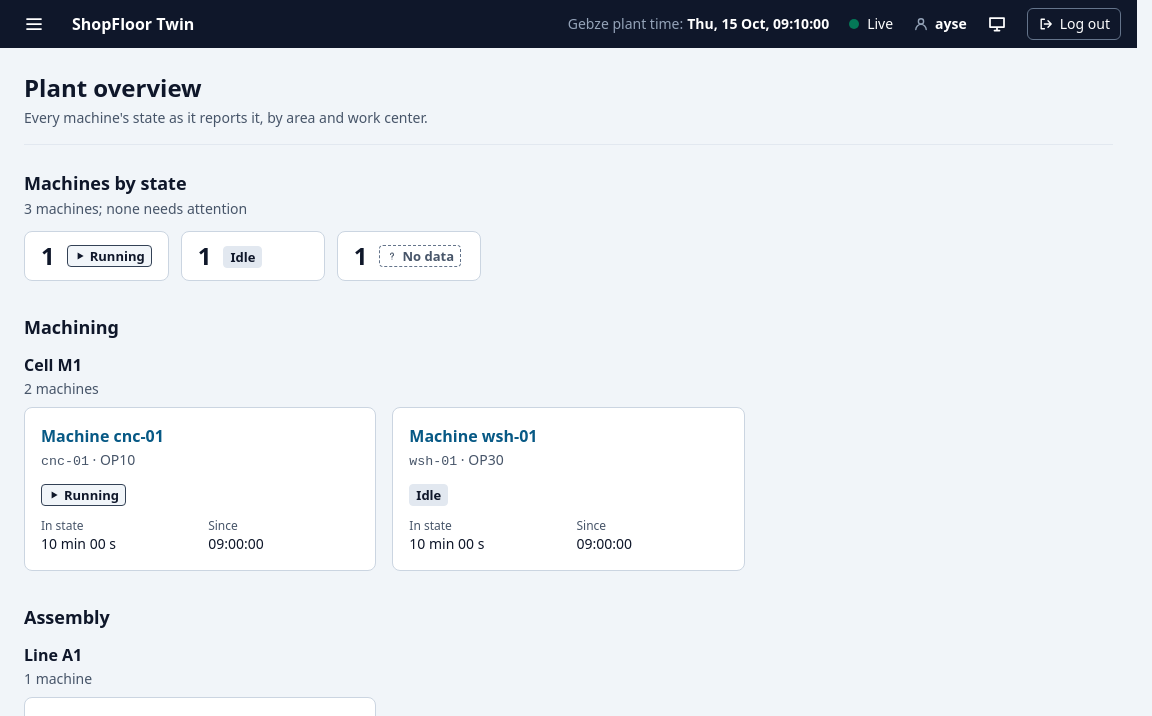
Test: a logout racing a read of the session, in one page › ignores a read the MES answered before the logout ended the session
expect the text "ayse" is shown: met, box [935, 14, 967, 34]
Click the button with test id "logout" at (1074, 24), box [1027, 8, 1121, 40]
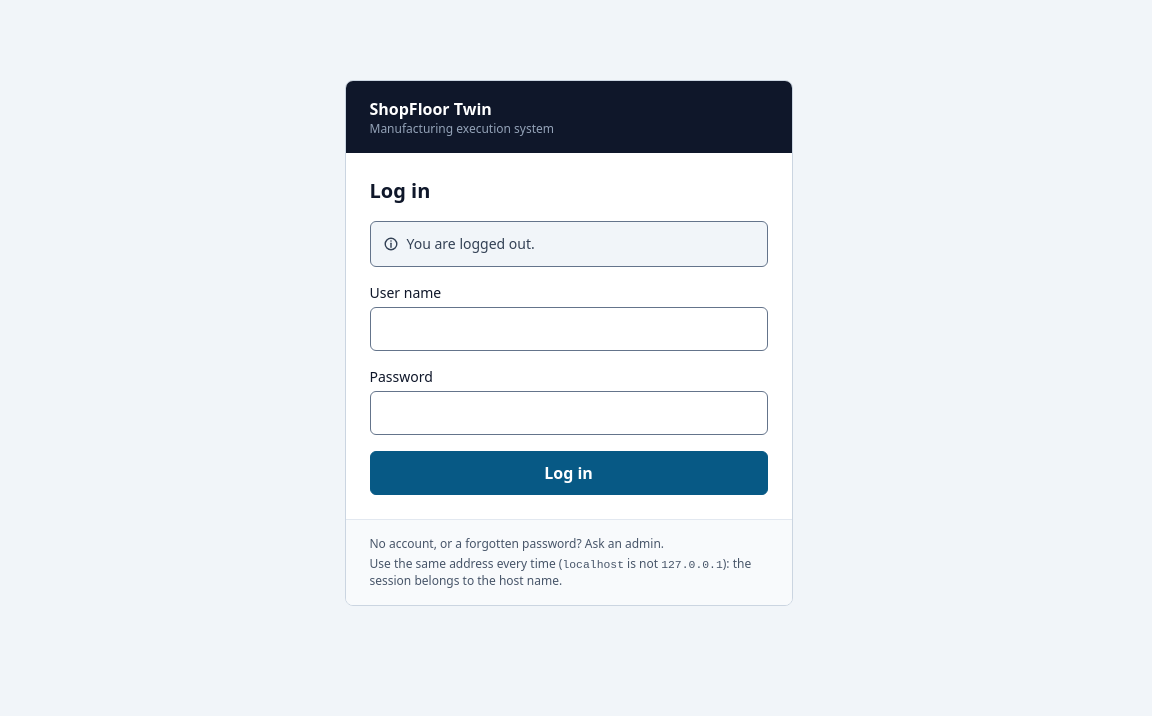
expect the text with test id "signed-in-user" is gone: met
